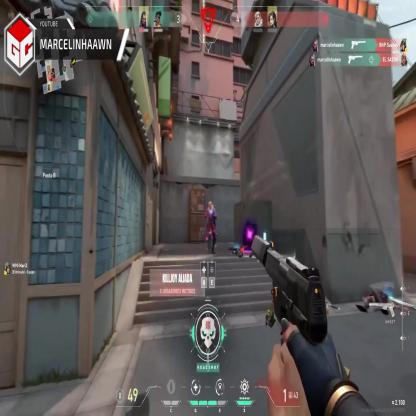enemy: (204, 202, 216, 253)
enemy_head: (208, 201, 212, 210)
